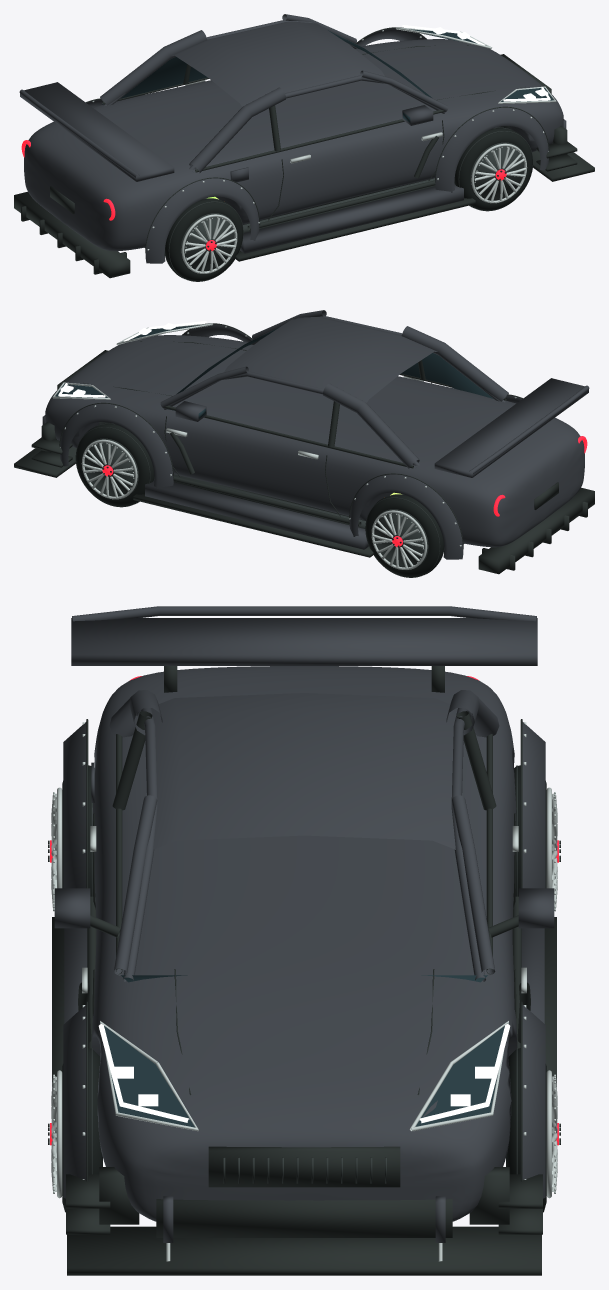
The model's file is reference_car.glb.
3 views of the same model, one above another, from view 1: azimuth 30°, elevation 25°; view 2: azimuth 150°, elevation 25°; view 3: azimuth 270°, elevation 25° (orthographic). The views are drawn at different scales.
Parts seen in each view (by area): view 1: Continuous sculpted body, Metal roof, Rear deck wing, Extended side skirt, Widebody overfender, Widebody overfender.001, Rear diffuser, Rounded tyre, Rounded tyre.002, Carbon sill blade, Rear pillar, Rear pillar.001 (+17 smaller); view 2: Continuous sculpted body, Metal roof, Rear deck wing, Extended side skirt.001, Widebody overfender.002, Widebody overfender.003, Rear diffuser, Rounded tyre.001, Rounded tyre.003, Carbon sill blade.001, Continuous panoramic glazing, Rear pillar.001 (+17 smaller); view 3: Continuous sculpted body, Metal roof, Rear deck wing, Front splitter, Front lower intake, Front upper grille, Raised spoiler trailing edge, Widebody overfender.001, Widebody overfender.003, Widebody overfender, Widebody overfender.002, Swept headlamp lens (+27 smaller).
Boxes of the visible parts, x1,y1,x2,y2 form: Continuous sculpted body: [24, 39, 563, 251]; Metal roof: [171, 21, 384, 106]; Rear deck wing: [20, 82, 174, 181]; Extended side skirt: [240, 184, 463, 253]; Widebody overfender: [145, 178, 259, 263]; Widebody overfender.001: [435, 107, 548, 192]; Rear diffuser: [14, 191, 130, 278]; Rounded tyre: [165, 198, 243, 281]; Rounded tyre.002: [454, 128, 532, 210]; Carbon sill blade: [235, 198, 475, 261]; Rear pillar: [189, 87, 285, 172]; Rear pillar.001: [100, 30, 207, 105]; Continuous sculpted body: [45, 335, 584, 547]; Metal roof: [224, 317, 437, 402]; Rear deck wing: [434, 378, 588, 477]; Extended side skirt.001: [145, 480, 368, 549]; Widebody overfender.002: [349, 474, 463, 559]; Widebody overfender.003: [60, 403, 173, 488]; Rear diffuser: [478, 487, 594, 574]; Rounded tyre.001: [365, 494, 443, 577]; Rounded tyre.003: [76, 424, 154, 506]; Carbon sill blade.001: [133, 494, 373, 557]; Continuous panoramic glazing: [167, 326, 493, 410]; Rear pillar.001: [323, 383, 419, 468]; Continuous sculpted body: [91, 666, 517, 1221]; Metal roof: [151, 693, 457, 849]; Rear deck wing: [71, 618, 537, 665]; Front splitter: [67, 1226, 541, 1275]; Front lower intake: [156, 1198, 452, 1237]; Front upper grille: [208, 1146, 400, 1187]; Raised spoiler trailing edge: [72, 606, 536, 621]; Widebody overfender.001: [63, 1005, 86, 1198]; Widebody overfender.003: [522, 1005, 545, 1198]; Widebody overfender: [63, 722, 86, 888]; Widebody overfender.002: [522, 722, 545, 888]; Swept headlamp lens: [104, 1026, 194, 1127].
Size of the model in its own units: 4.94 by 1.55 by 2.3.
